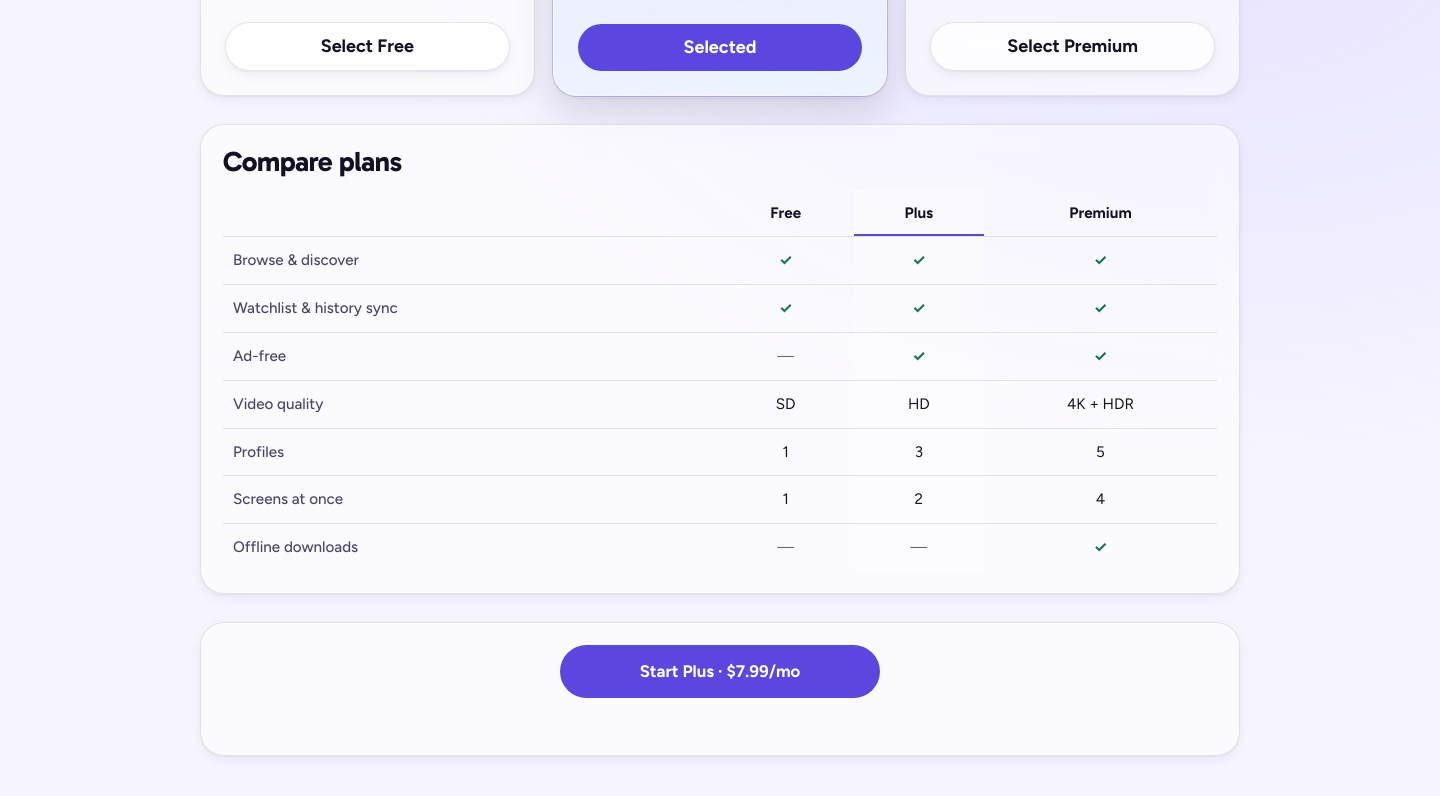
Test: PlansPage › shows an error when checkout fails
(page scrolled)
Click the button "Start Plus · $7.99/mo". click: click(720, 672)
box: [560,645,880,698]
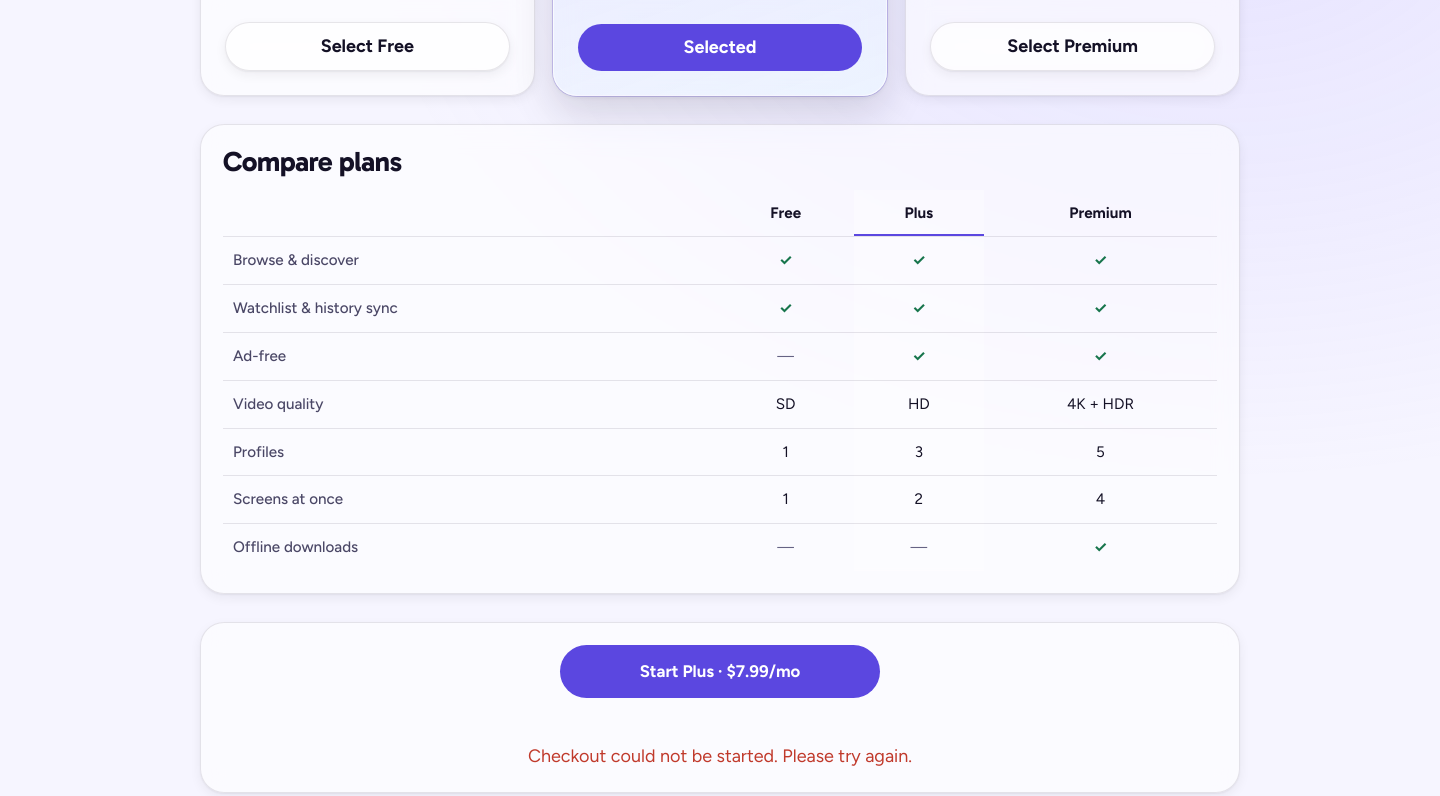
Now the message shows "could not be started", box [528,745,912,767]
